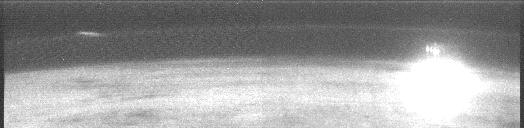positive: (420, 41, 447, 60)
